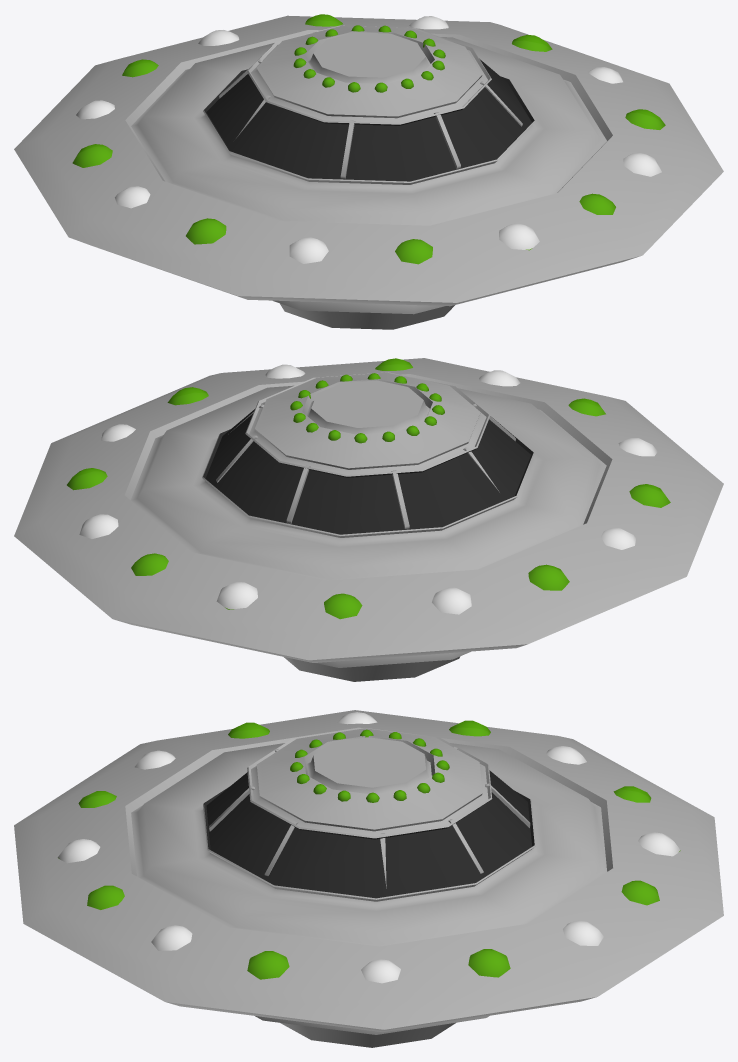
File: UFOwithAnim.fbx
3 renders of one model, top to bottom at view 1: azimuth 30°, elevation 25°; view 2: azimuth 150°, elevation 25°; view 3: azimuth 270°, elevation 25°, orthographic. The views are drawn at different scales.
Parts seen in each view (by area): view 1: body_Untitled; view 2: body_Untitled; view 3: body_Untitled.
Part boxes in pixels (x1,y1,x2,y2): body_Untitled: [14, 14, 723, 329]; body_Untitled: [14, 358, 723, 681]; body_Untitled: [14, 710, 723, 1047].
Bounding box in the file's own units: 8586 × 3152 × 8276.
